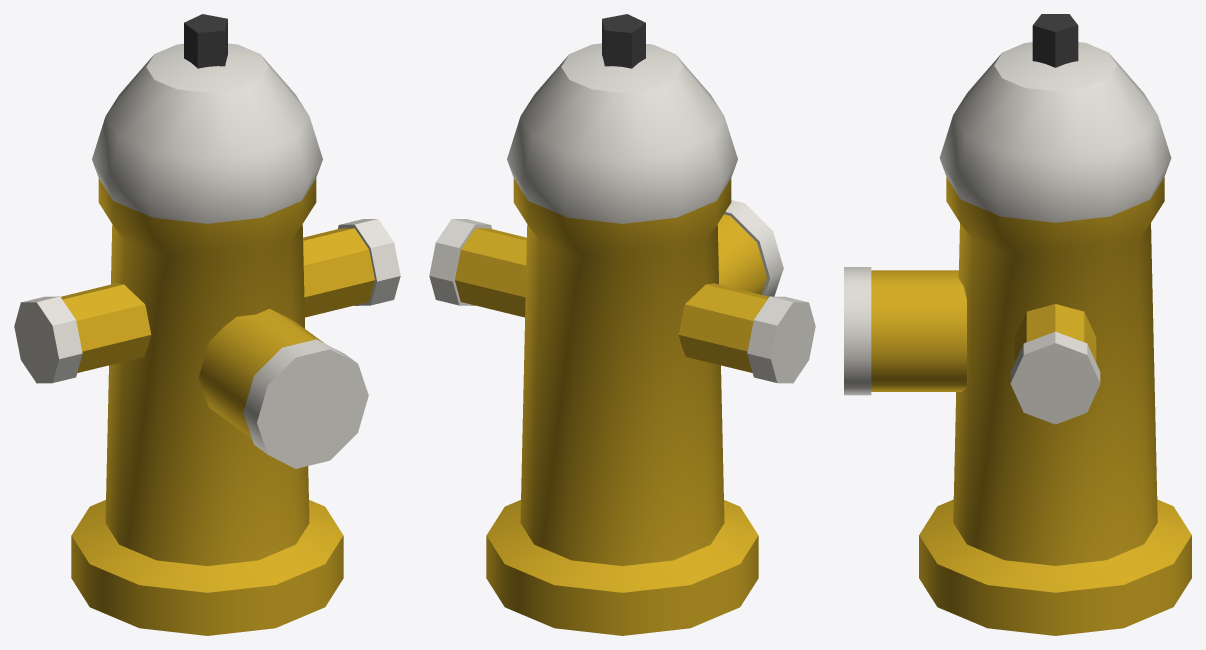
File: seattle_hydrant.glb
3 views of the same model, side by side, from view 1: azimuth 30°, elevation 25°; view 2: azimuth 150°, elevation 25°; view 3: azimuth 270°, elevation 25° (orthographic).
Parts seen in each view (by area): view 1: seattle_hydrant; view 2: seattle_hydrant; view 3: seattle_hydrant.
Part boxes in pixels (left/top/right/bottom): seattle_hydrant: left=14, top=14, right=400, bottom=635; seattle_hydrant: left=429, top=14, right=815, bottom=635; seattle_hydrant: left=844, top=14, right=1191, bottom=635.
Bounding box in the file's own units: 0.58 × 0.9 × 0.5101.
Materials: 1 (1 with a texture image).
